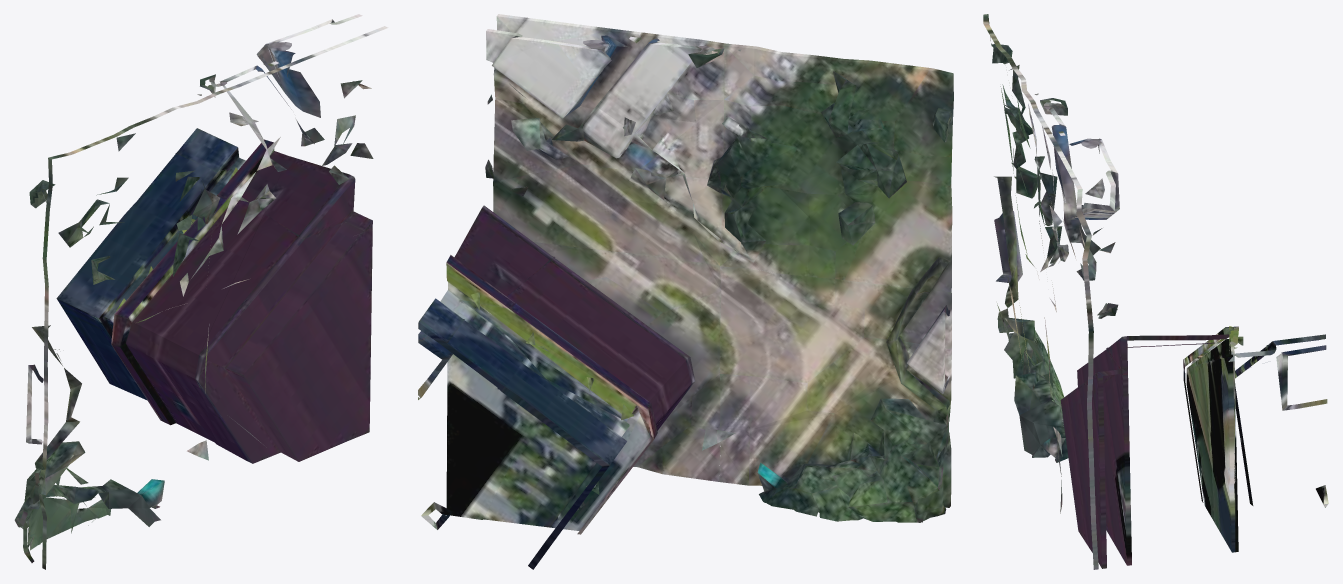
The model's file is tile_084.glb.
3 renders of one model, left to right at view 1: azimuth 30°, elevation 25°; view 2: azimuth 150°, elevation 25°; view 3: azimuth 270°, elevation 25°, orthographic. The views are drawn at different scales.
Bounding box in the file's own units: 76.77 × 76.14 × 62.4.
1 material, 1 textured.
